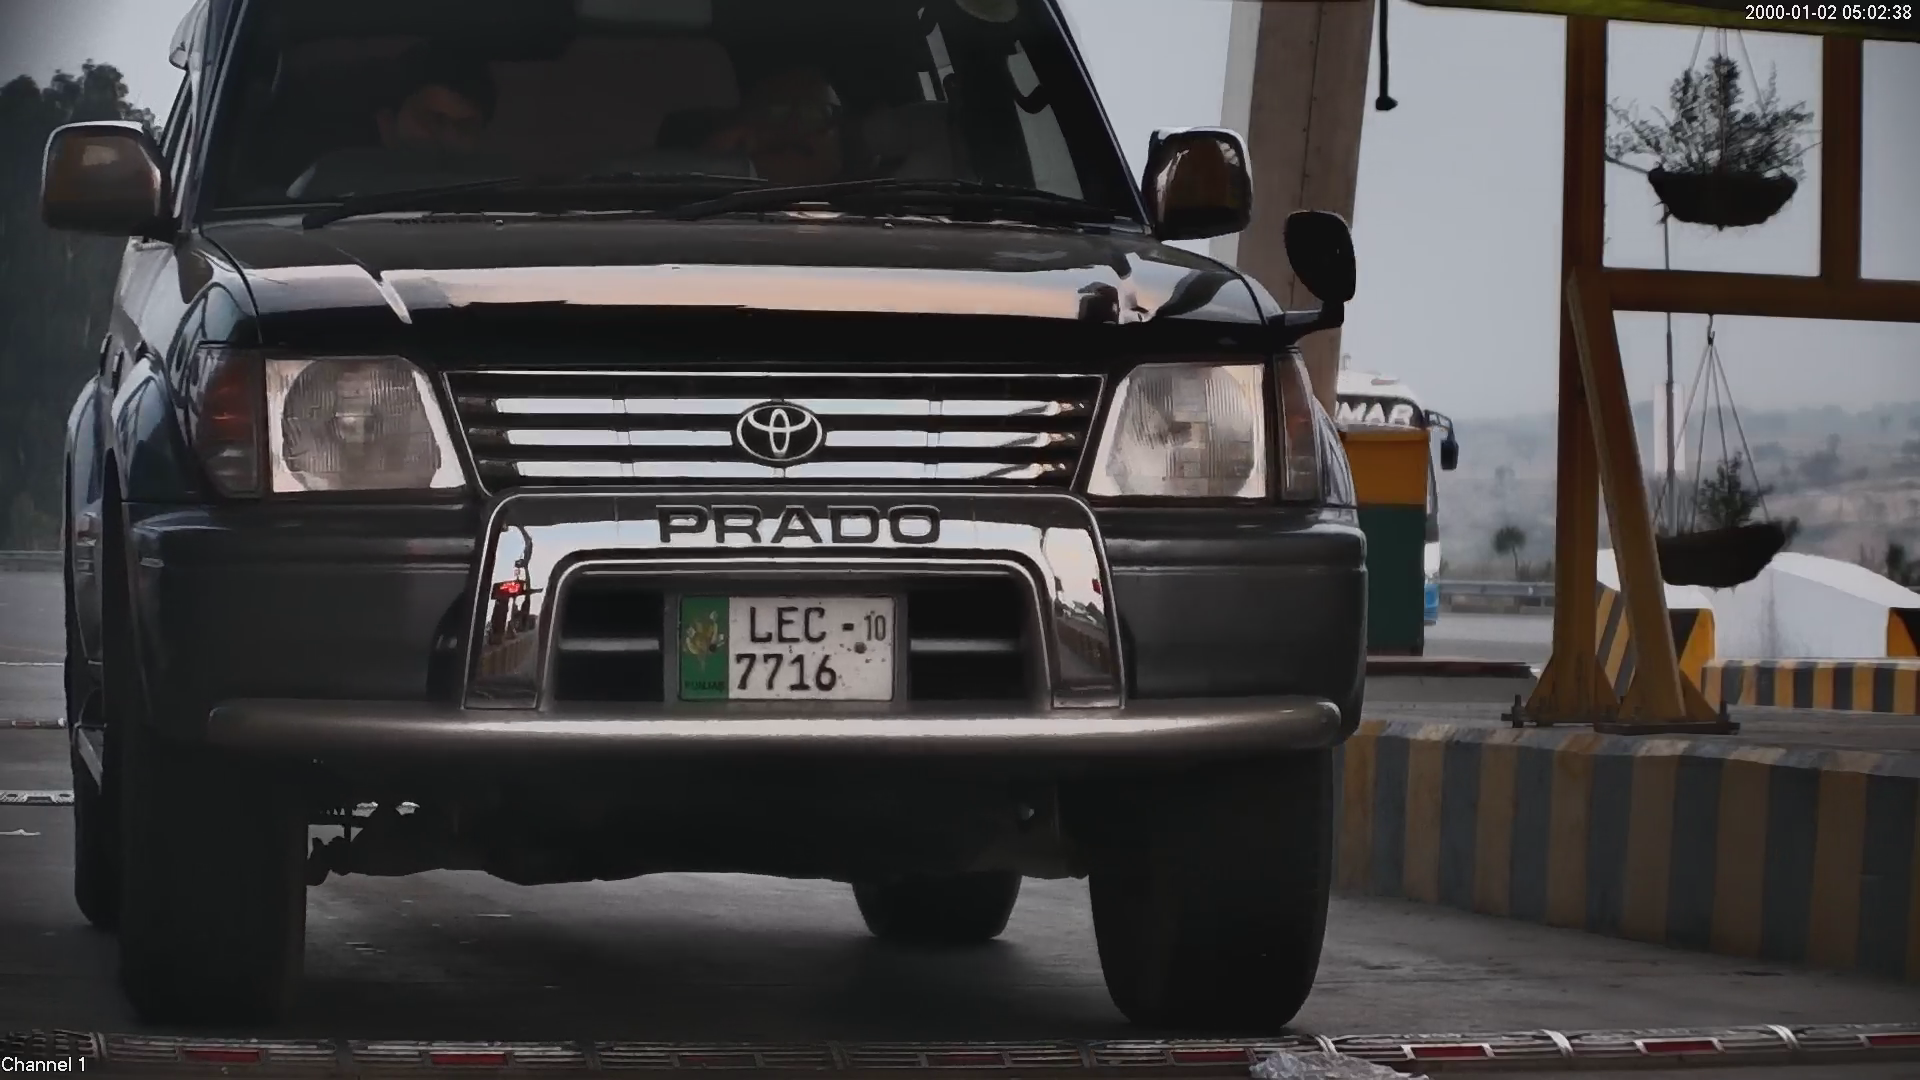Number_Plate: (666, 579, 905, 718)
